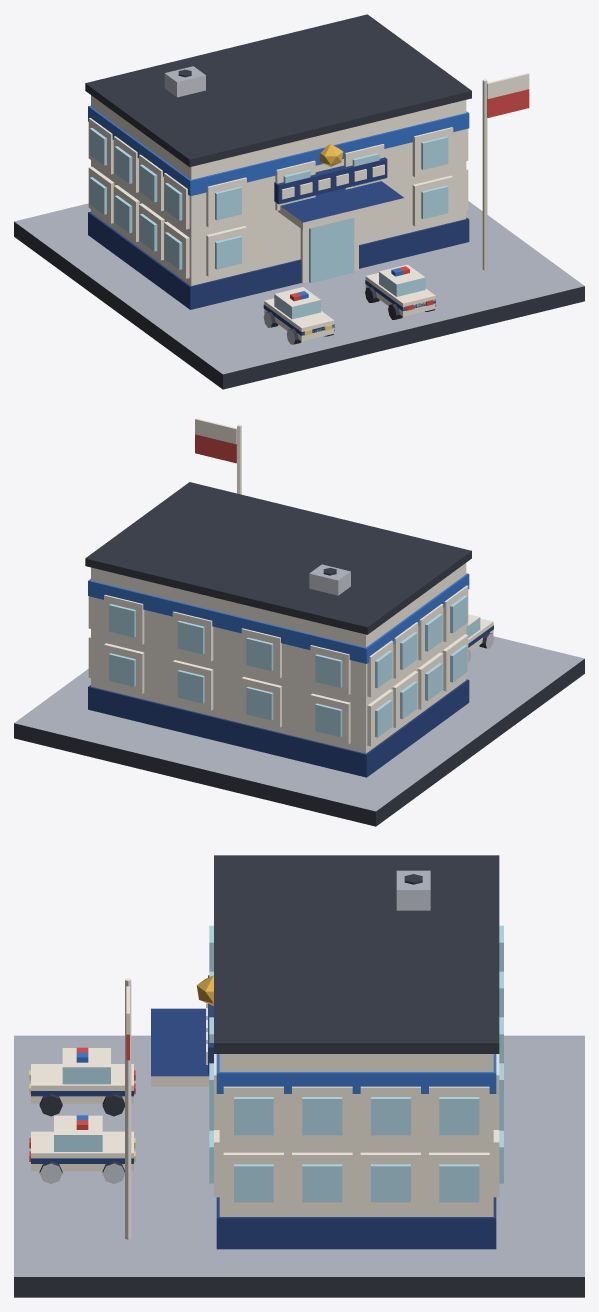
The model's file is public_police.glb.
The picture shows the model from 3 angles, top to bottom: view 1: azimuth 30°, elevation 25°; view 2: azimuth 150°, elevation 25°; view 3: azimuth 270°, elevation 25°; orthographic projection. The views are drawn at different scales.
Visible parts, largest first — view 1: public_police; view 2: public_police; view 3: public_police.
Part boxes in pixels (x1,y1,x2,y2): public_police: (14, 14, 584, 389); public_police: (14, 418, 584, 826); public_police: (14, 855, 584, 1297).
Size of the model in its own units: 1 by 0.54 by 1.
